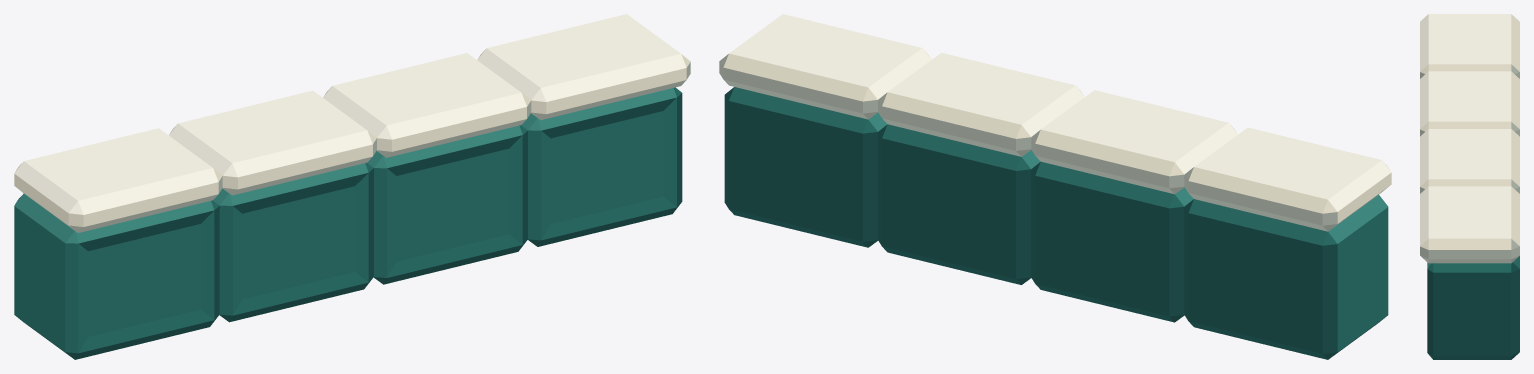
File: Terrain_TopRun4R.gltf
3 views of the same model, side by side, from view 1: azimuth 30°, elevation 25°; view 2: azimuth 150°, elevation 25°; view 3: azimuth 270°, elevation 25° (orthographic). The views are drawn at different scales.
Visible parts, largest first — view 1: Terrain_TopRun4R_baked; view 2: Terrain_TopRun4R_baked; view 3: Terrain_TopRun4R_baked.
Boxes of the visible parts, <box> form: Terrain_TopRun4R_baked: <box>14,14,690,359</box>; Terrain_TopRun4R_baked: <box>719,14,1391,359</box>; Terrain_TopRun4R_baked: <box>1420,14,1519,359</box>.
Size of the model in its own units: 4.04 by 1 by 0.735.
